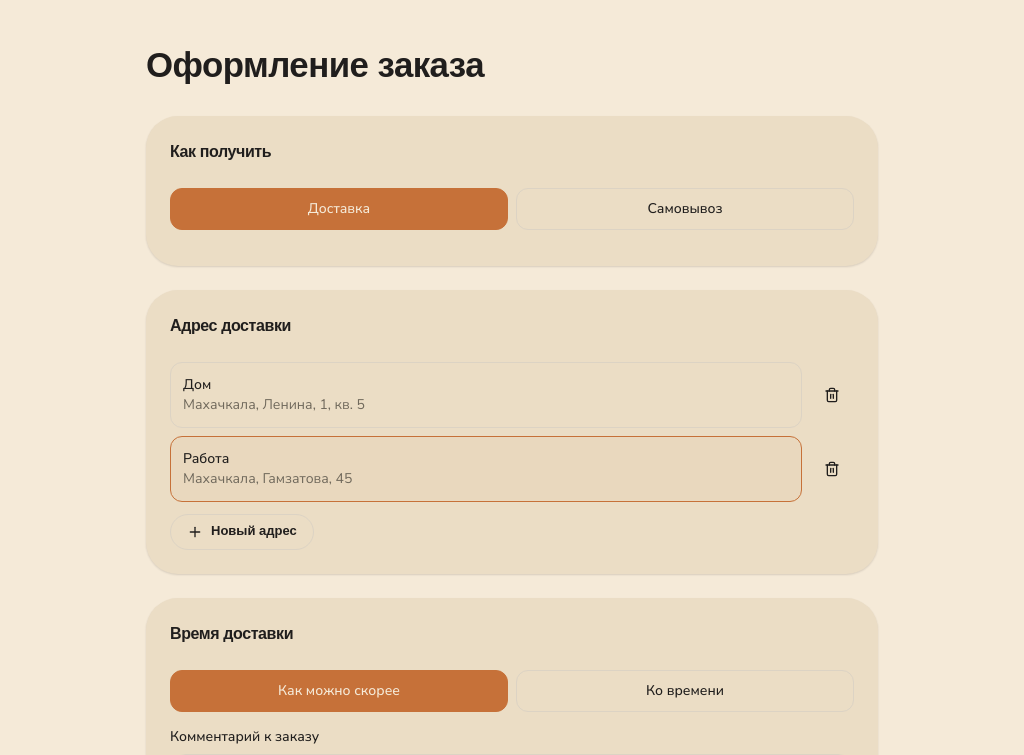
Test: CheckoutPage — delivery zones › ignores zones entirely for a collection
The width and height of the screenshot is (1024, 755).
Click the button "Самовывоз" at (685, 209), box [516,188,854,230]
(page scrolled)
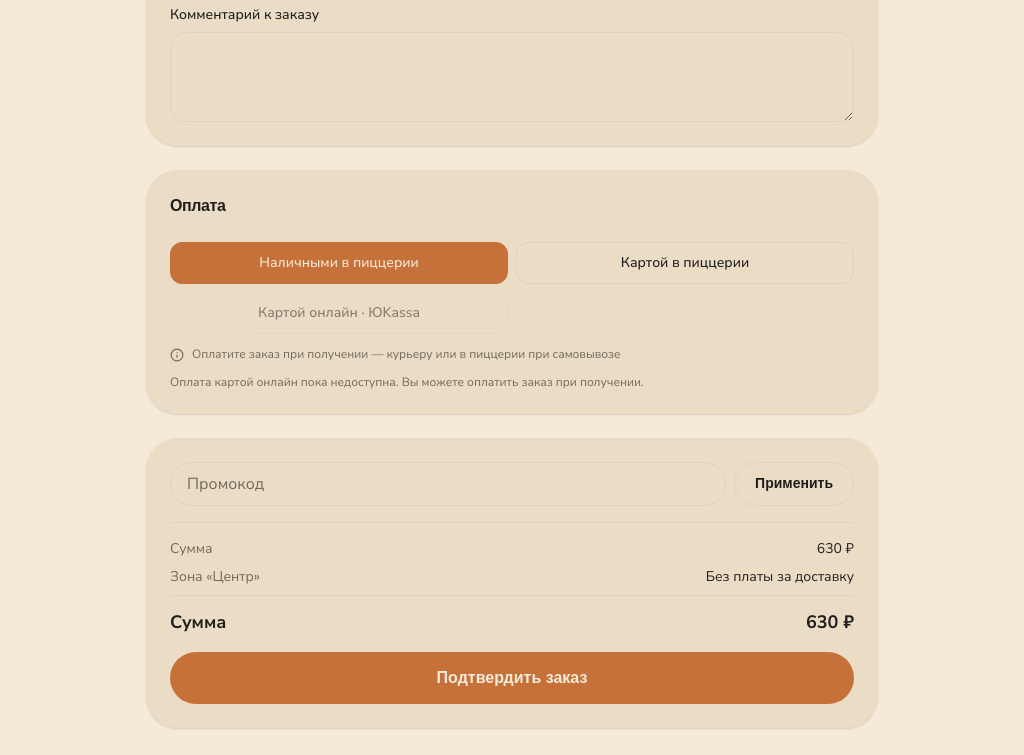
Expected: the text "Без платы за доставку" is shown, [706,567,854,587]
